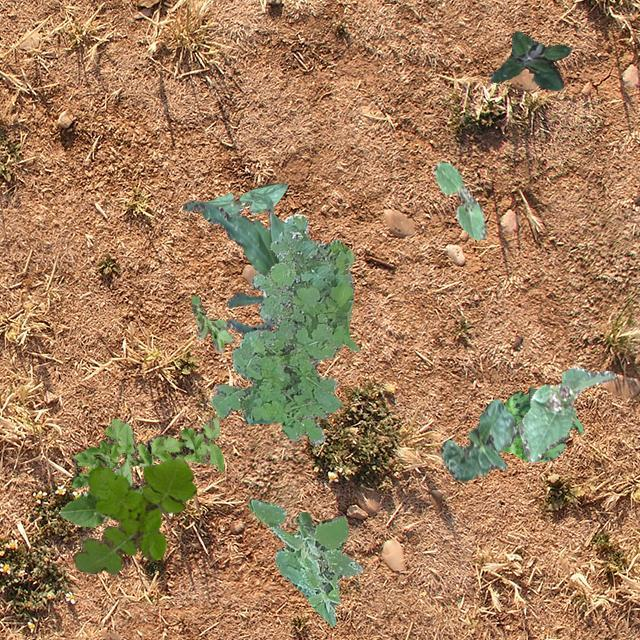crop: (182, 190, 284, 334), (518, 364, 616, 462), (440, 398, 518, 481), (58, 458, 144, 526), (432, 162, 486, 240), (200, 180, 286, 222), (528, 384, 534, 404)
weed: (210, 212, 358, 444), (248, 498, 362, 626), (72, 458, 196, 574), (70, 416, 222, 486), (500, 390, 582, 460), (490, 30, 570, 90), (190, 294, 233, 352)
